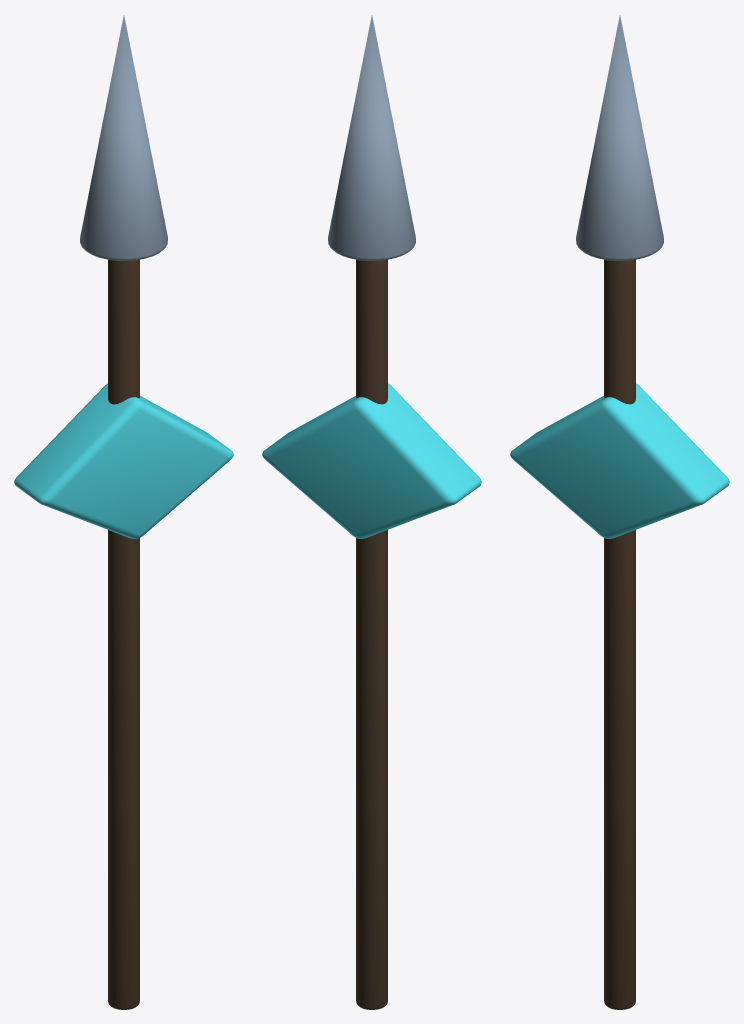
The model's file is spear_v7.glb.
3 views of the same model, side by side, from view 1: azimuth 30°, elevation 25°; view 2: azimuth 150°, elevation 25°; view 3: azimuth 330°, elevation 25° (orthographic).
Visible parts, largest first — view 1: LANCE_SHAFT_SECONDARY, LANCE_GUARD_ACCENT, LANCE_HEAD_PRIMARY; view 2: LANCE_SHAFT_SECONDARY, LANCE_GUARD_ACCENT, LANCE_HEAD_PRIMARY; view 3: LANCE_SHAFT_SECONDARY, LANCE_GUARD_ACCENT, LANCE_HEAD_PRIMARY.
Boxes of the visible parts, x1,y1,x2,y2 form: LANCE_SHAFT_SECONDARY: [108, 259, 139, 1009]; LANCE_GUARD_ACCENT: [14, 383, 233, 538]; LANCE_HEAD_PRIMARY: [80, 15, 167, 260]; LANCE_SHAFT_SECONDARY: [356, 259, 387, 1009]; LANCE_GUARD_ACCENT: [262, 383, 481, 538]; LANCE_HEAD_PRIMARY: [328, 15, 415, 260]; LANCE_SHAFT_SECONDARY: [604, 259, 635, 1009]; LANCE_GUARD_ACCENT: [510, 383, 729, 538]; LANCE_HEAD_PRIMARY: [576, 15, 663, 260].
Size of the model in its own units: 1.2 by 5.83 by 0.4716.
